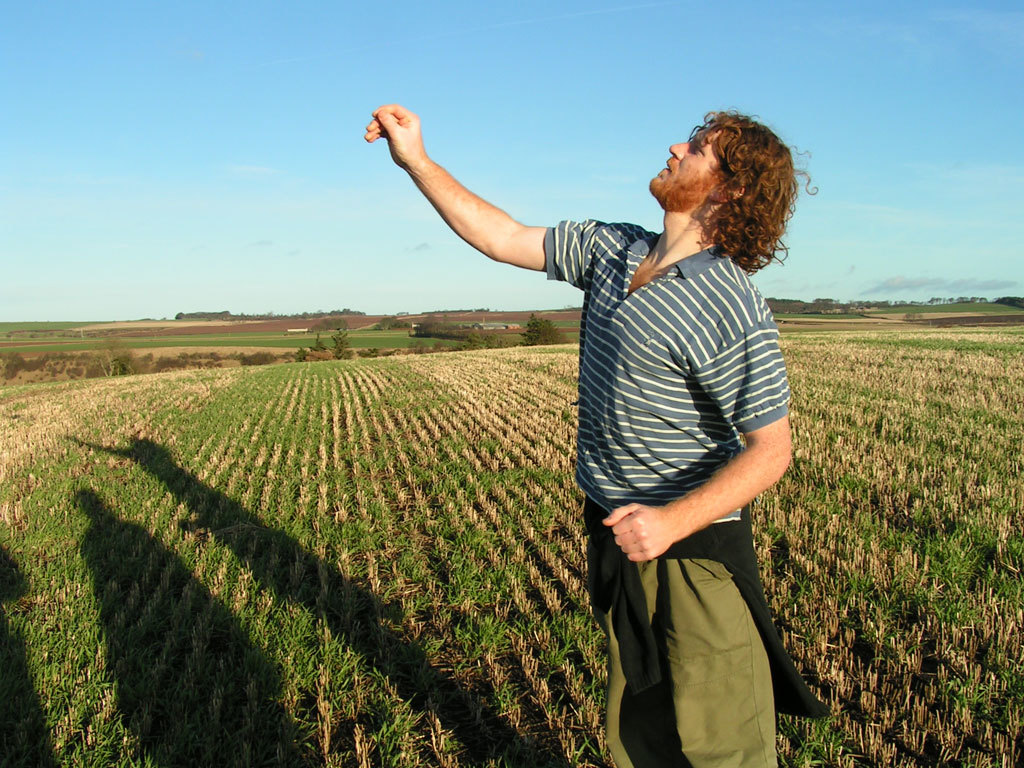face: (658, 123, 737, 197)
